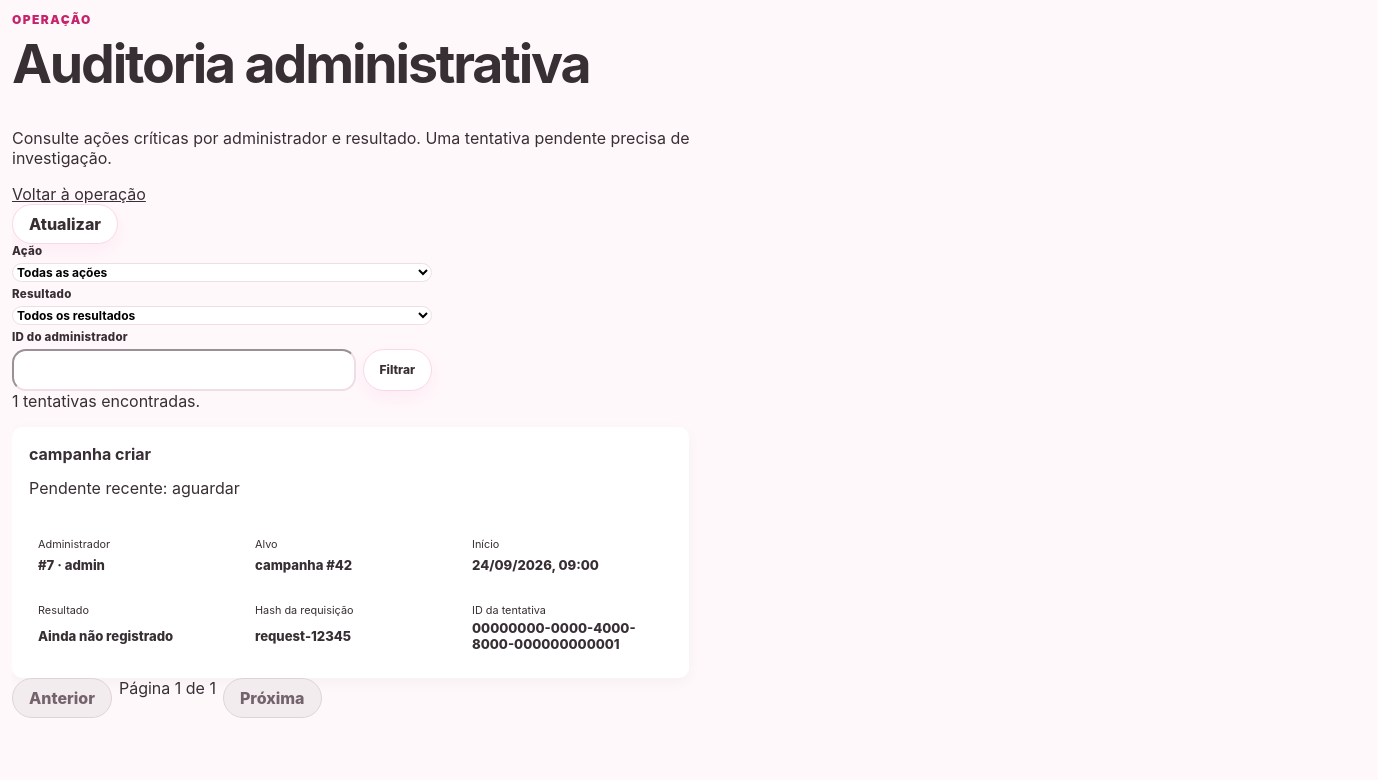
Test: AdminAuditPage › esconde registros do filtro anterior enquanto consulta os novos
Expected: the text "Pendente recente: aguardar" is shown, [29,478,240,498]
Select "Resposta com erro" in the dropdown labelled "Resultado" at (222, 315), box [12,306,432,325]
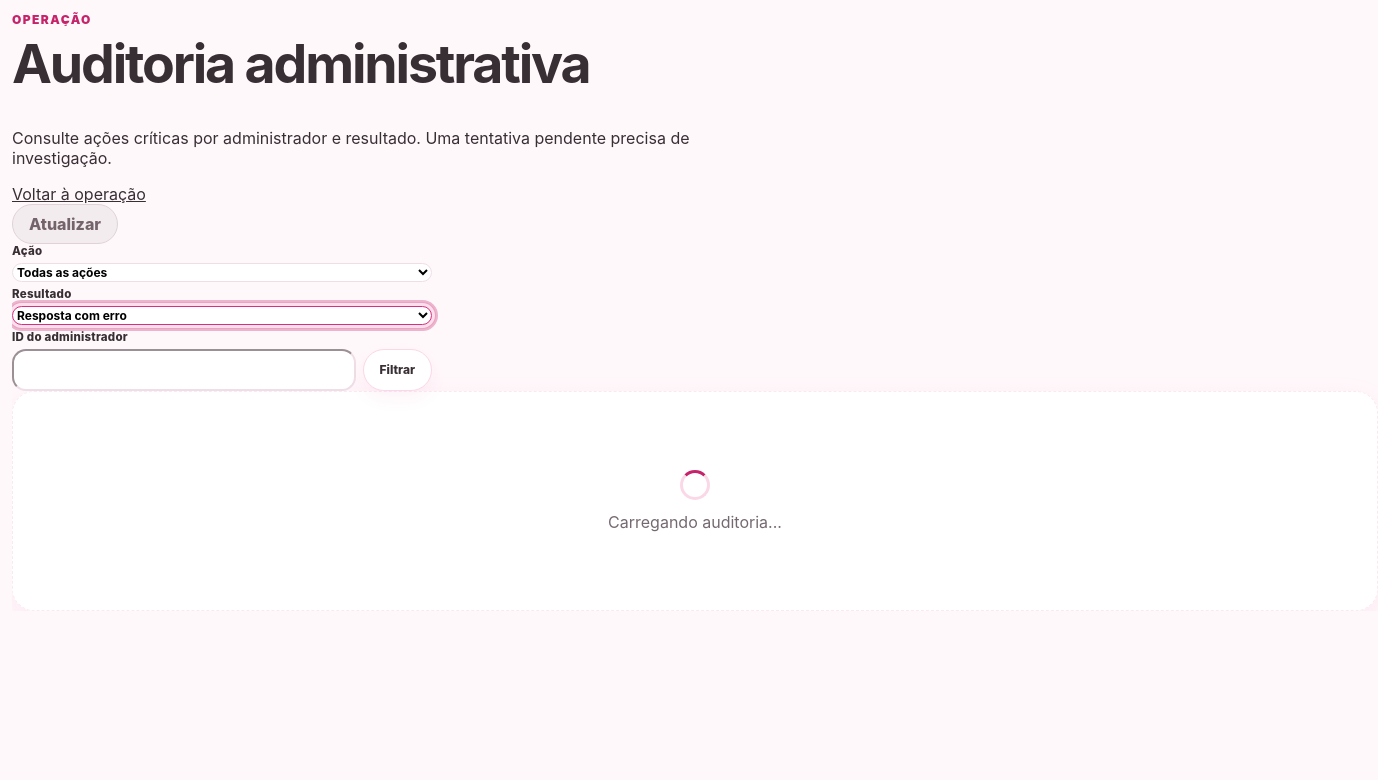
Now the text "Carregando auditoria..." is shown, box [12,391,1377,611]
Now the text "Pendente recente: aguardar" is gone
